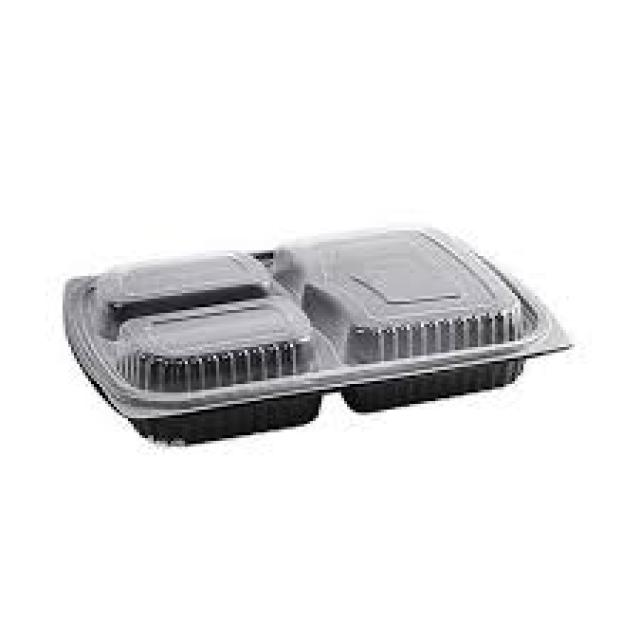disposable: (72, 202, 588, 463)
